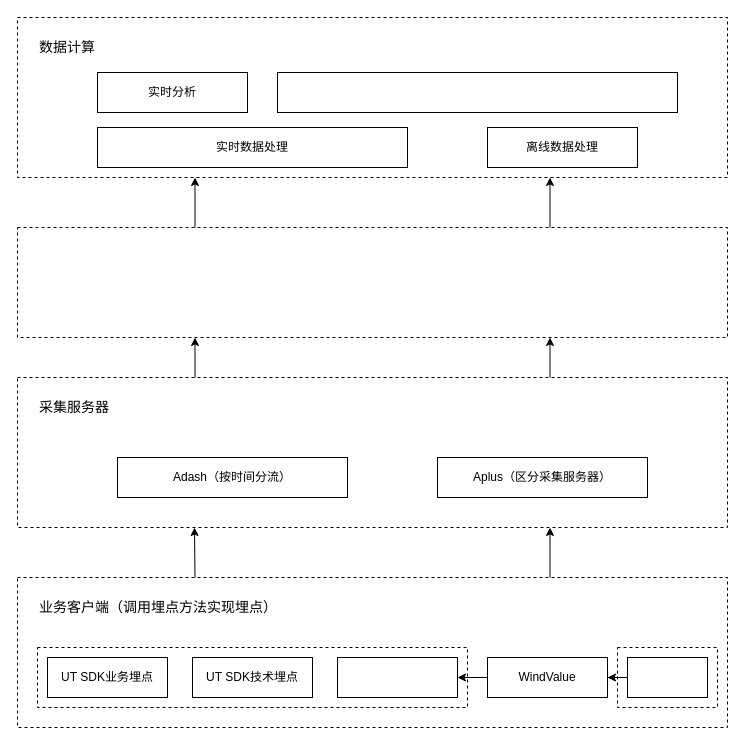
The diagram is 745 pixels wide and 745 high, and some of its shapes have lost their labels. The centre of each missing label's shape, as x and y in pixels:
Aplus埋点: (667,677)
TT（实时消息通信）: (372,282)
UT接口: (397,677)
离线分析: (477,92)
